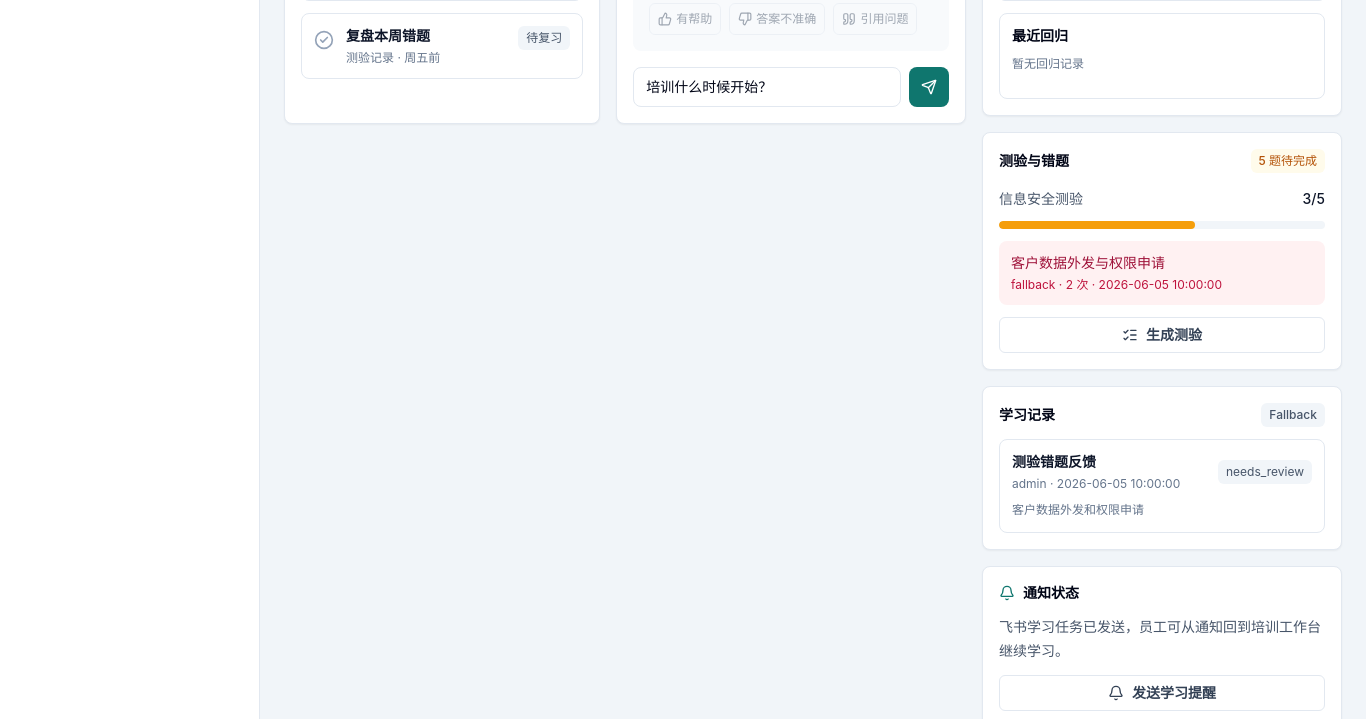
Training home page › submits quiz wrong-answer feedback from the customer workbench
(page scrolled)
Click the button "生成测验" at (1162, 335), box left=999, top=317, right=1325, bottom=353
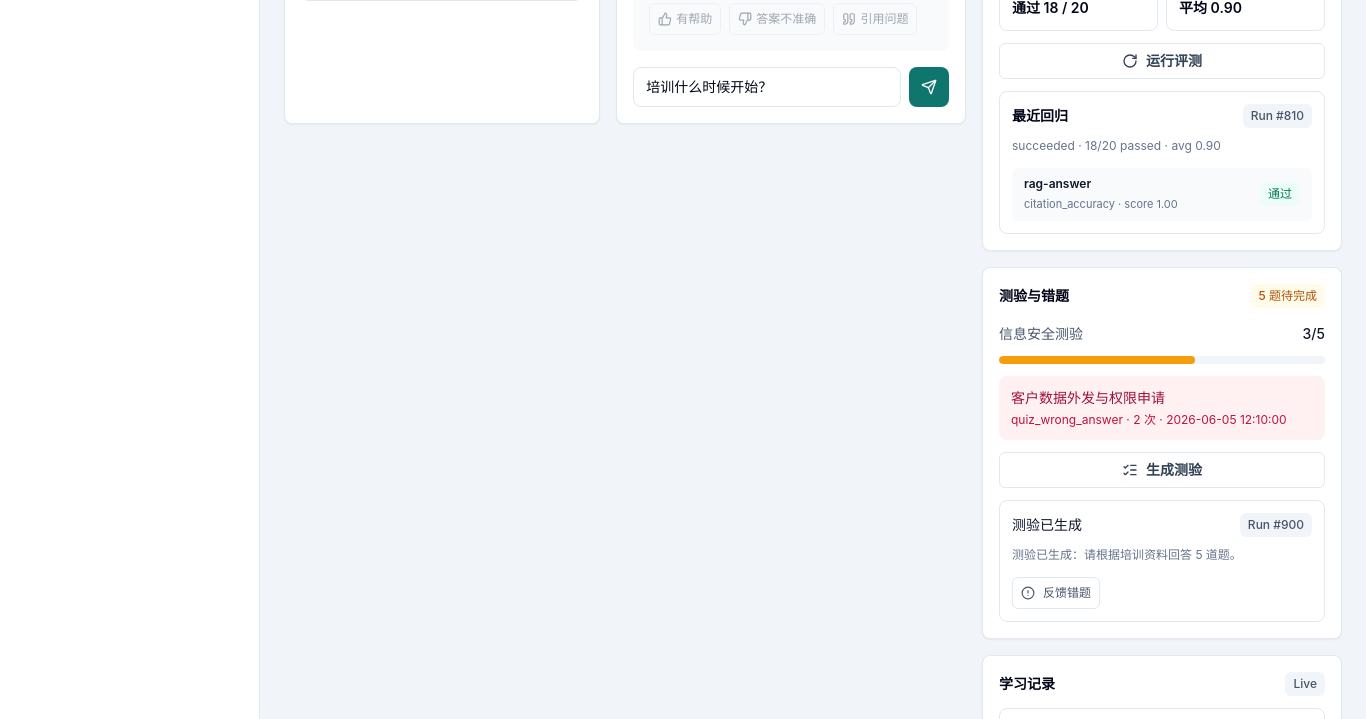
Check: the text "测验已生成" is shown, box left=1012, top=514, right=1082, bottom=534
Click the button "反馈错题" at (1056, 592), box left=1012, top=576, right=1100, bottom=608
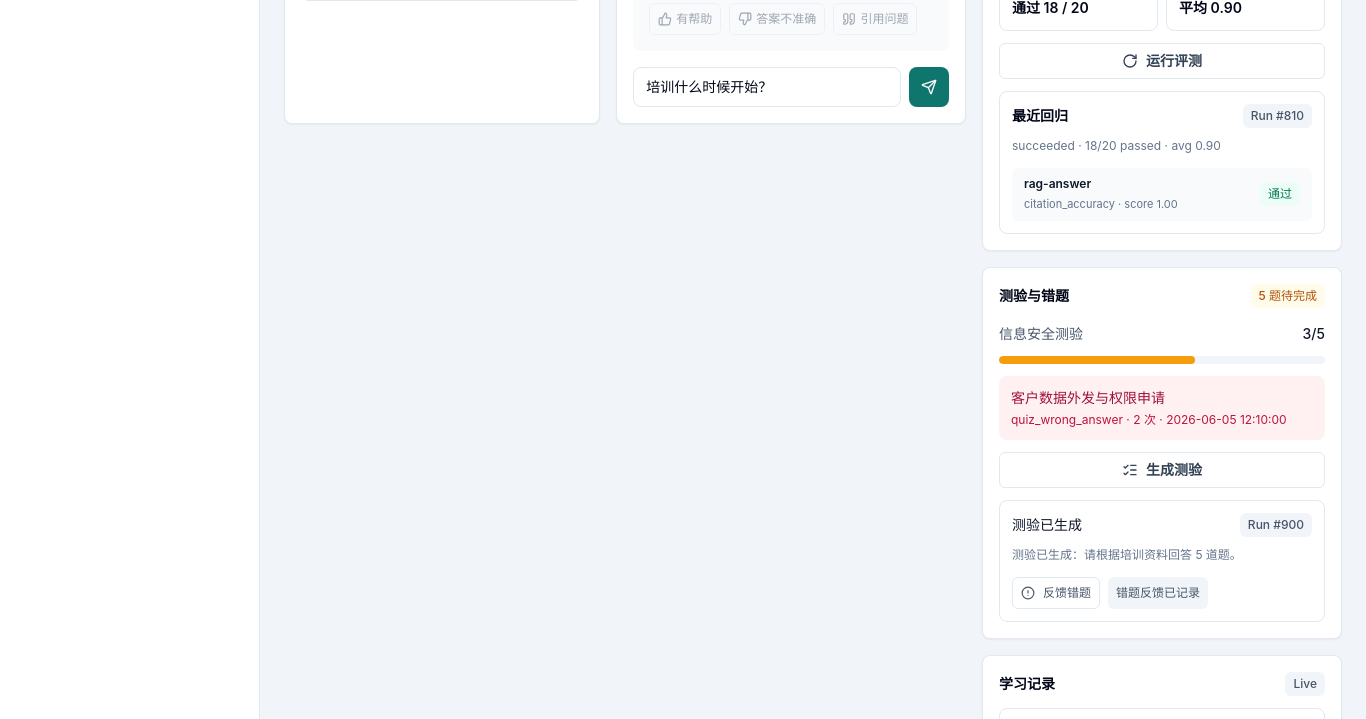
Check: the text "错题反馈已记录" is shown, box left=1108, top=576, right=1208, bottom=608
